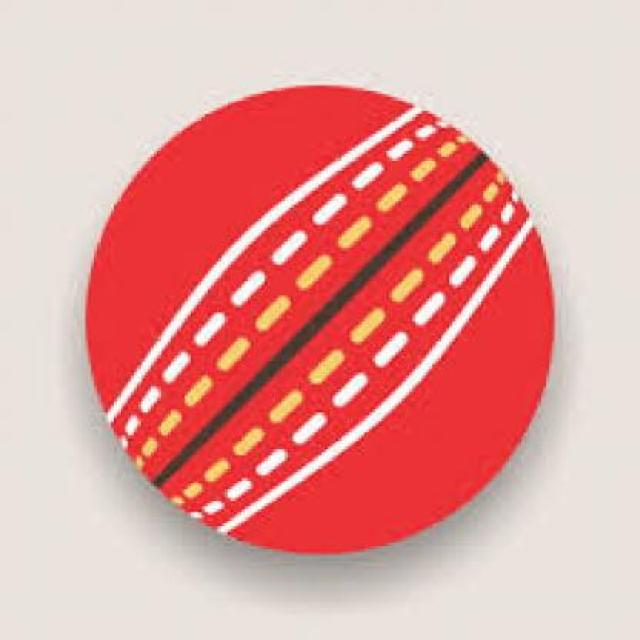ball: (76, 63, 572, 575)
